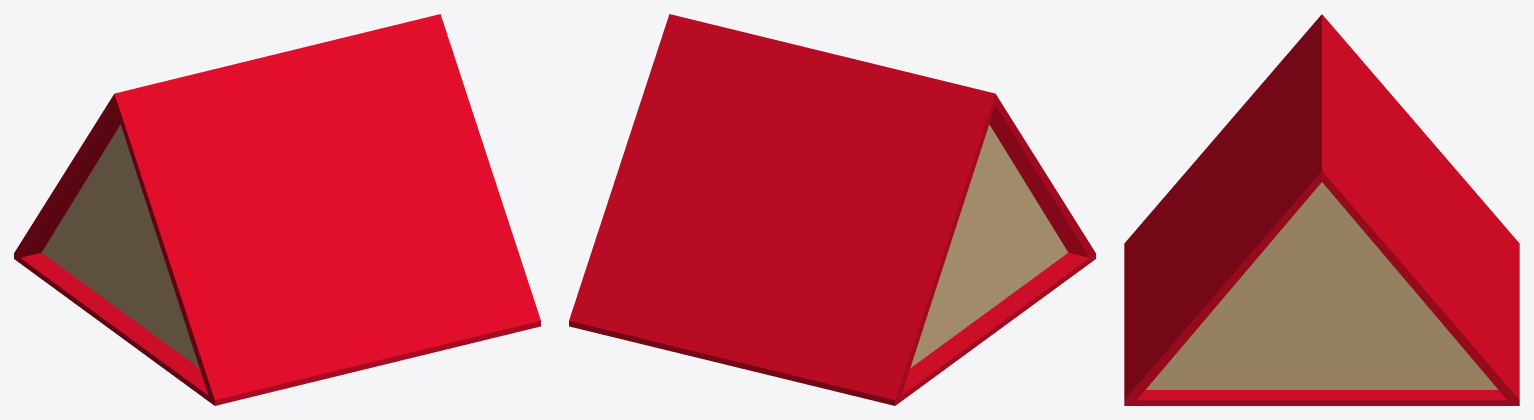
Rendered from roof.fbx.
The picture shows the model from 3 angles, left to right: view 1: azimuth 30°, elevation 25°; view 2: azimuth 150°, elevation 25°; view 3: azimuth 270°, elevation 25°; orthographic projection.
Visible parts, largest first — view 1: Cylinder.001; view 2: Cylinder.001; view 3: Cylinder.001.
Boxes of the visible parts, box(x1,y1,x2,y2) form: Cylinder.001: box(14, 14, 540, 405); Cylinder.001: box(569, 14, 1095, 405); Cylinder.001: box(1124, 14, 1519, 405).
Bounding box in the file's own units: 6 × 4.2 × 6.4.
